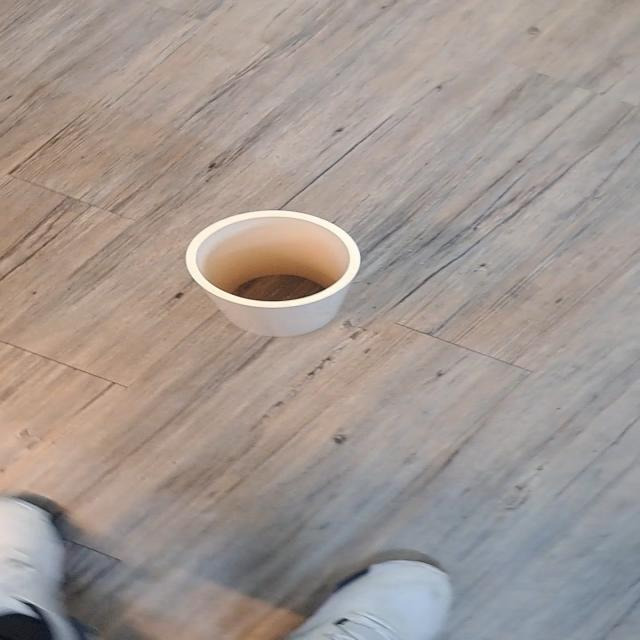CORAL: (166, 202, 378, 356)
